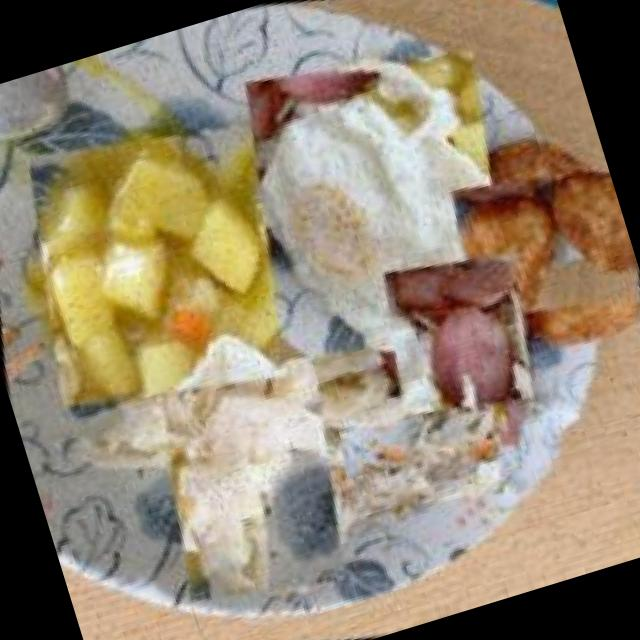chinese_cabbage: (75, 276, 418, 618)
chinese_sausage: (348, 227, 564, 443)
curry: (0, 69, 357, 456)
fried_eggs: (183, 0, 569, 410)
mung_bean_sprouts: (320, 378, 522, 547)
triangle_hash_brown: (430, 118, 640, 369)
